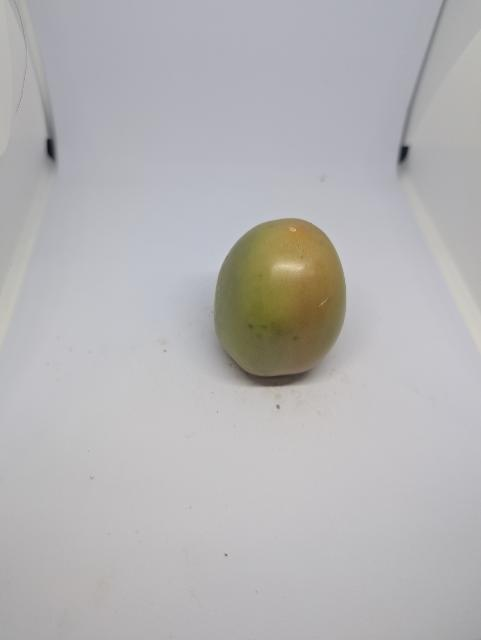breaker: (214, 218, 347, 376)
